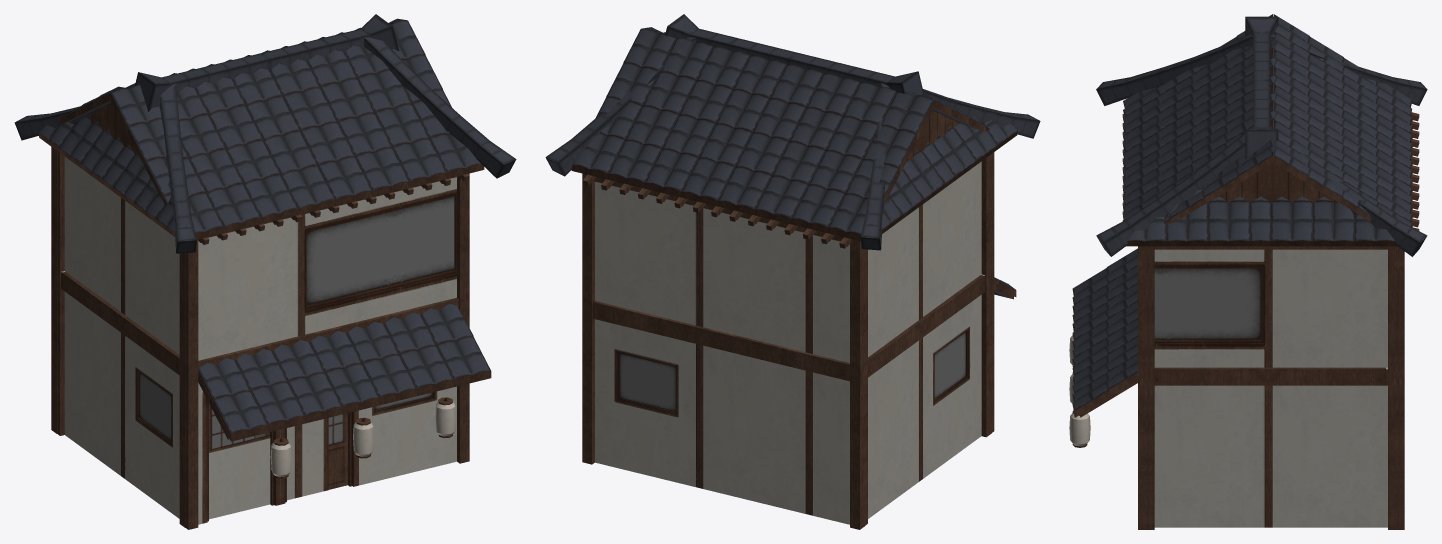
File: street-kit.glb
3 views of the same model, side by side, from view 1: azimuth 30°, elevation 25°; view 2: azimuth 150°, elevation 25°; view 3: azimuth 270°, elevation 25° (orthographic). The views are drawn at different scales.
Visible parts, largest first — view 1: hipped-shop, gable-shop; view 2: gable-shop, hipped-shop; view 3: hipped-shop, gable-shop.
Boxes of the visible parts, <box> form: hipped-shop: <box>14,14,516,529</box>; gable-shop: <box>51,18,461,527</box>; gable-shop: <box>571,27,1013,529</box>; hipped-shop: <box>545,14,1040,525</box>; hipped-shop: <box>1069,16,1427,529</box>; gable-shop: <box>1080,14,1419,529</box>.
Size of the model in its own units: 6.85 by 7.72 by 6.43.
1 material, 1 textured.
